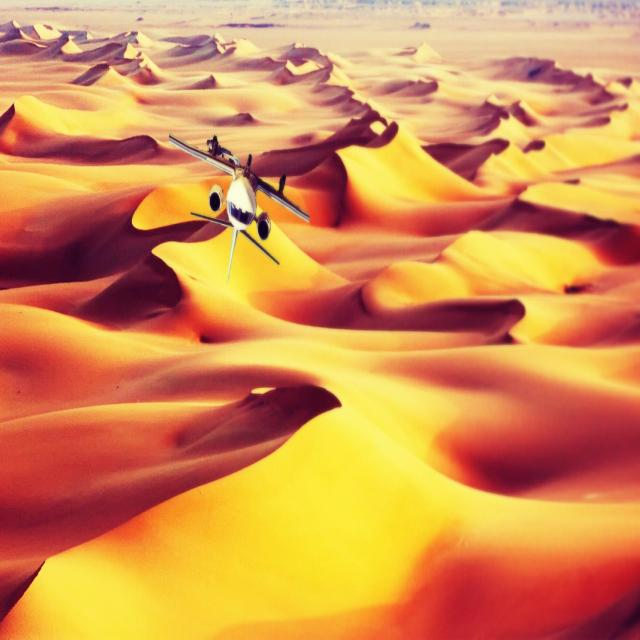airplane: (167, 130, 310, 282)
